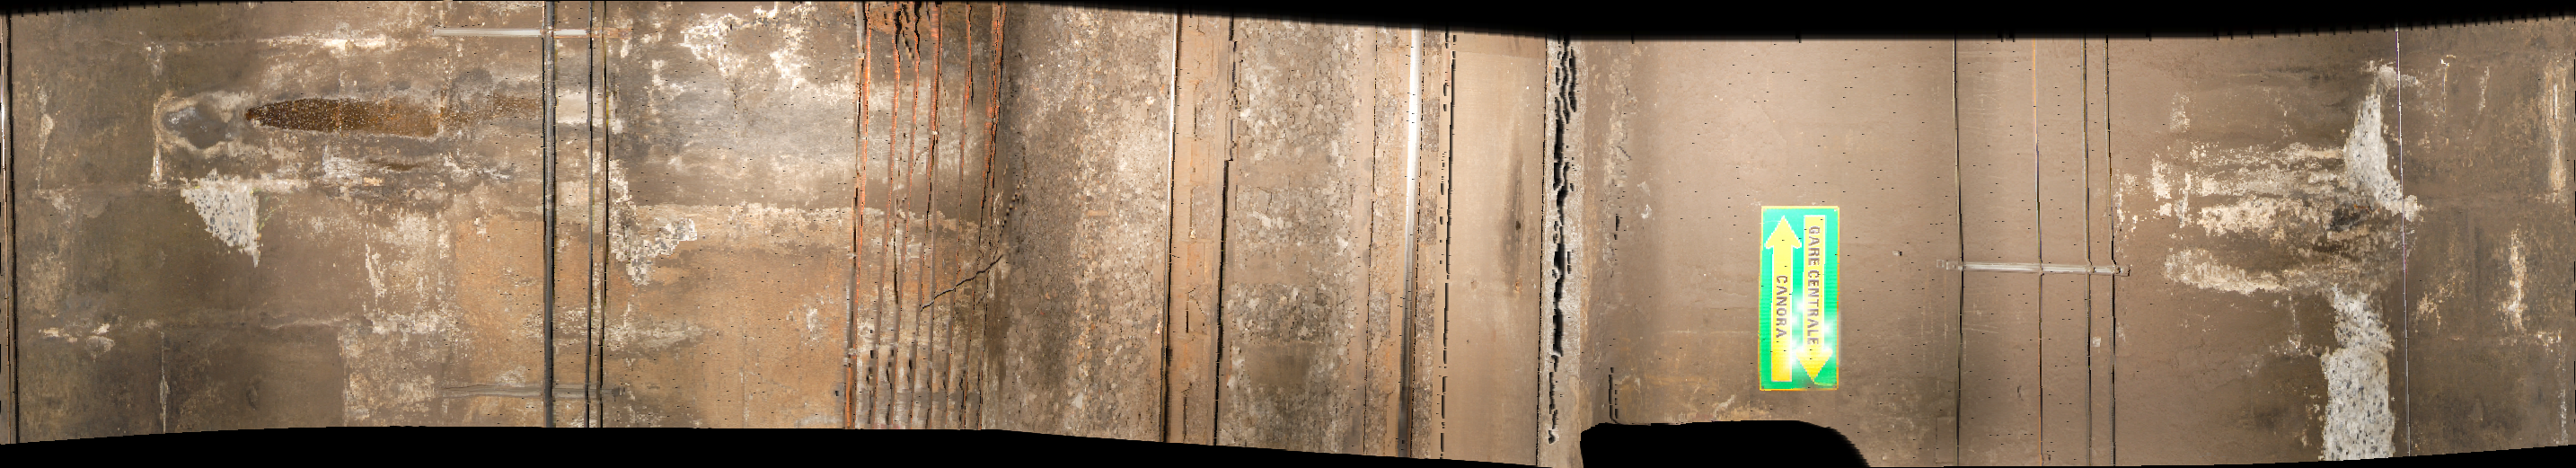pipes: (839, 2, 1012, 460), (542, 3, 634, 468), (2075, 39, 2134, 468), (1942, 48, 1988, 468), (2027, 34, 2058, 468)
sign: (1758, 202, 1840, 394)
tracks: (1165, 7, 1580, 468)
